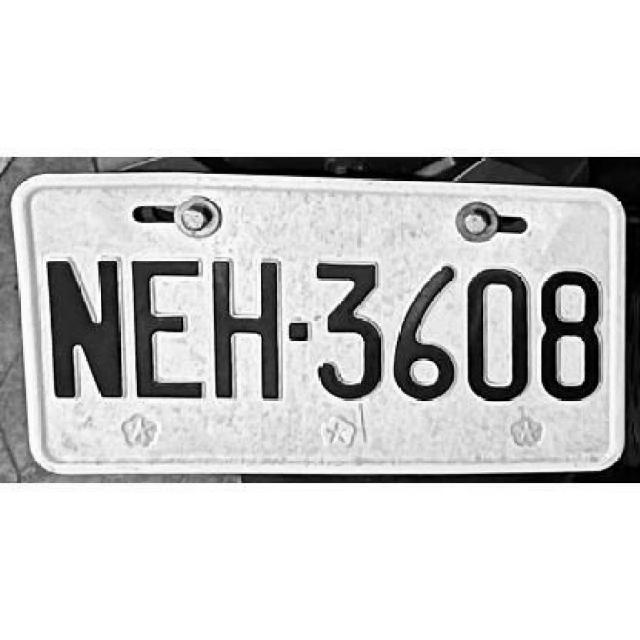-: (288, 320, 310, 342)
0: (464, 263, 530, 403)
3: (316, 257, 384, 397)
6: (392, 262, 460, 408)
8: (542, 266, 603, 406)
E: (129, 254, 203, 397)
H: (206, 256, 282, 404)
N: (40, 255, 126, 400)
